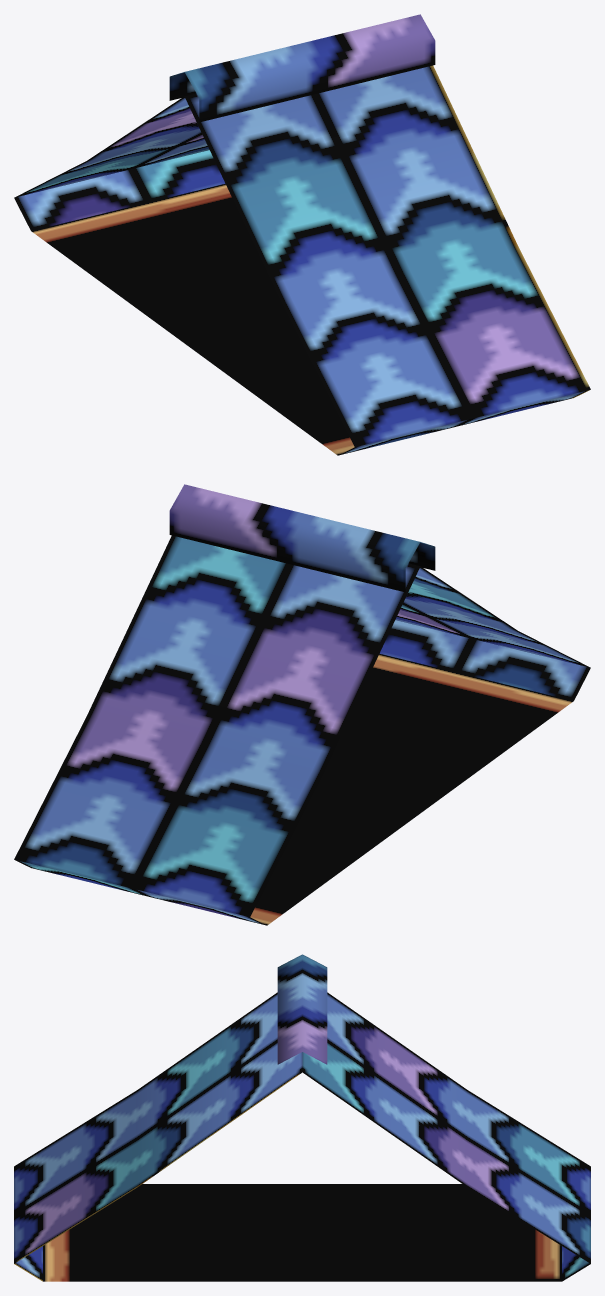
File: arch_roof_straight_teal.FBX
3 views of the same model, one above another, from view 1: azimuth 30°, elevation 25°; view 2: azimuth 150°, elevation 25°; view 3: azimuth 270°, elevation 25° (orthographic). The views are drawn at different scales.
Parts seen in each view (by area): view 1: arch_roof_straight_teal; view 2: arch_roof_straight_teal; view 3: arch_roof_straight_teal.
Boxes of the visible parts, x1=… form: arch_roof_straight_teal: x1=14, y1=14, x2=590, y2=455; arch_roof_straight_teal: x1=14, y1=484, x2=590, y2=925; arch_roof_straight_teal: x1=14, y1=954, x2=590, y2=1281.
Size of the model in its own units: 2 by 2.2 by 5.
Materials: 1 (1 with a texture image).
